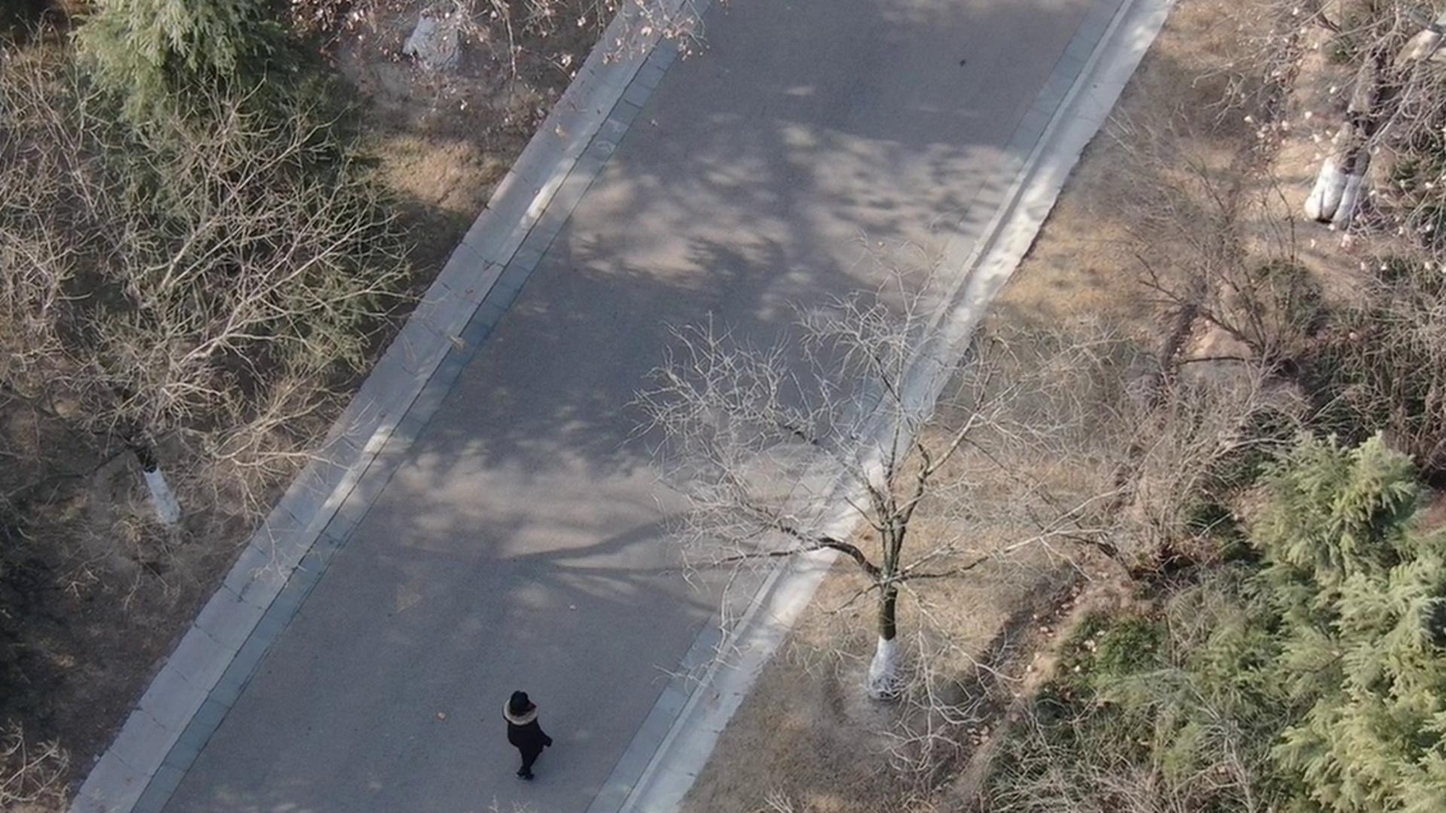human: (468, 686, 535, 799)
